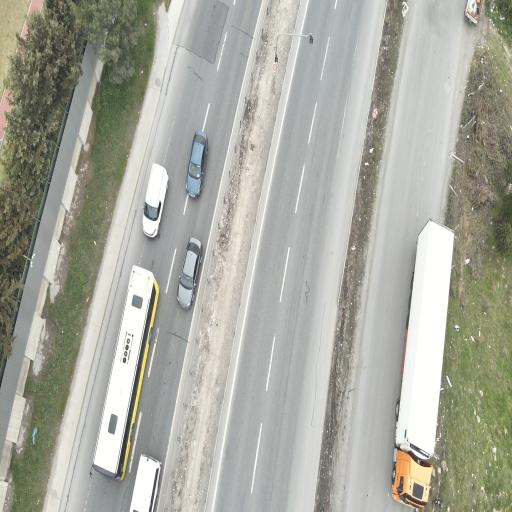bus: (93, 266, 159, 479)
car: (143, 164, 168, 237), (130, 454, 161, 512), (178, 238, 202, 308), (186, 131, 207, 197)
truck: (392, 219, 453, 508), (466, 0, 483, 24)
